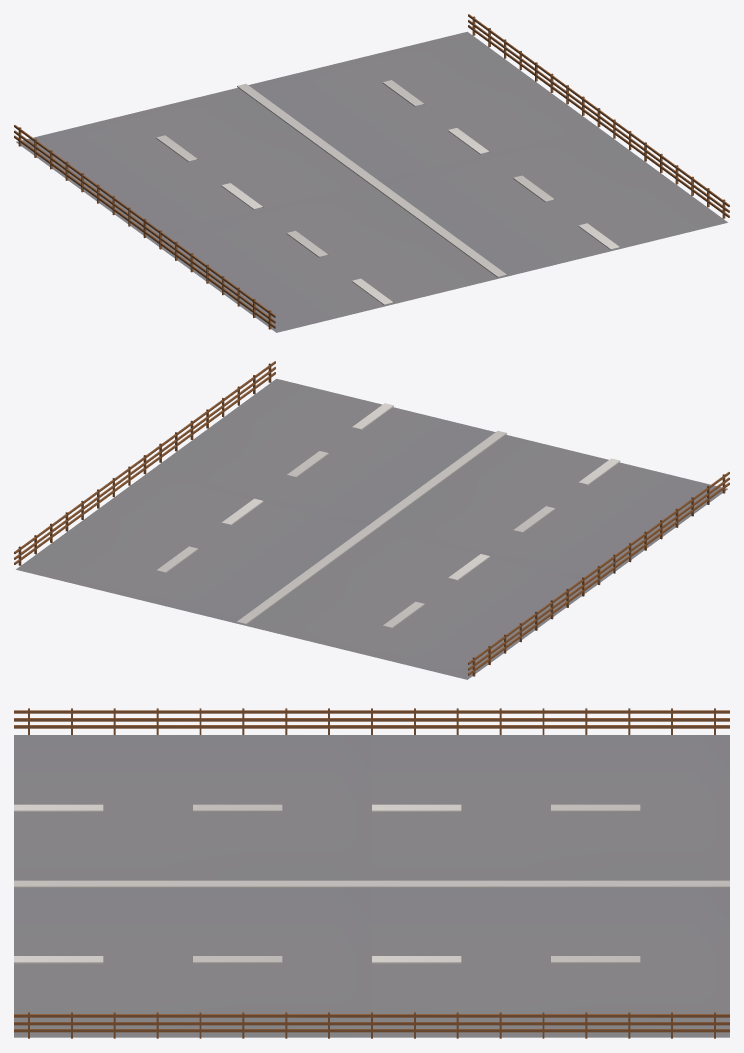
The model's file is FarmMainRoad.fbx.
3 views of the same model, one above another, from view 1: azimuth 30°, elevation 25°; view 2: azimuth 150°, elevation 25°; view 3: azimuth 270°, elevation 25° (orthographic). The views are drawn at different scales.
Visible parts, largest first — view 1: GreenGround.001; view 2: GreenGround.001; view 3: GreenGround.001.
Boxes of the visible parts, bbox=[...] form: GreenGround.001: bbox=[14, 14, 729, 332]; GreenGround.001: bbox=[14, 361, 729, 679]; GreenGround.001: bbox=[14, 708, 729, 1038].
Bounding box in the file's own units: 16.84 × 0.6558 × 16.7.
